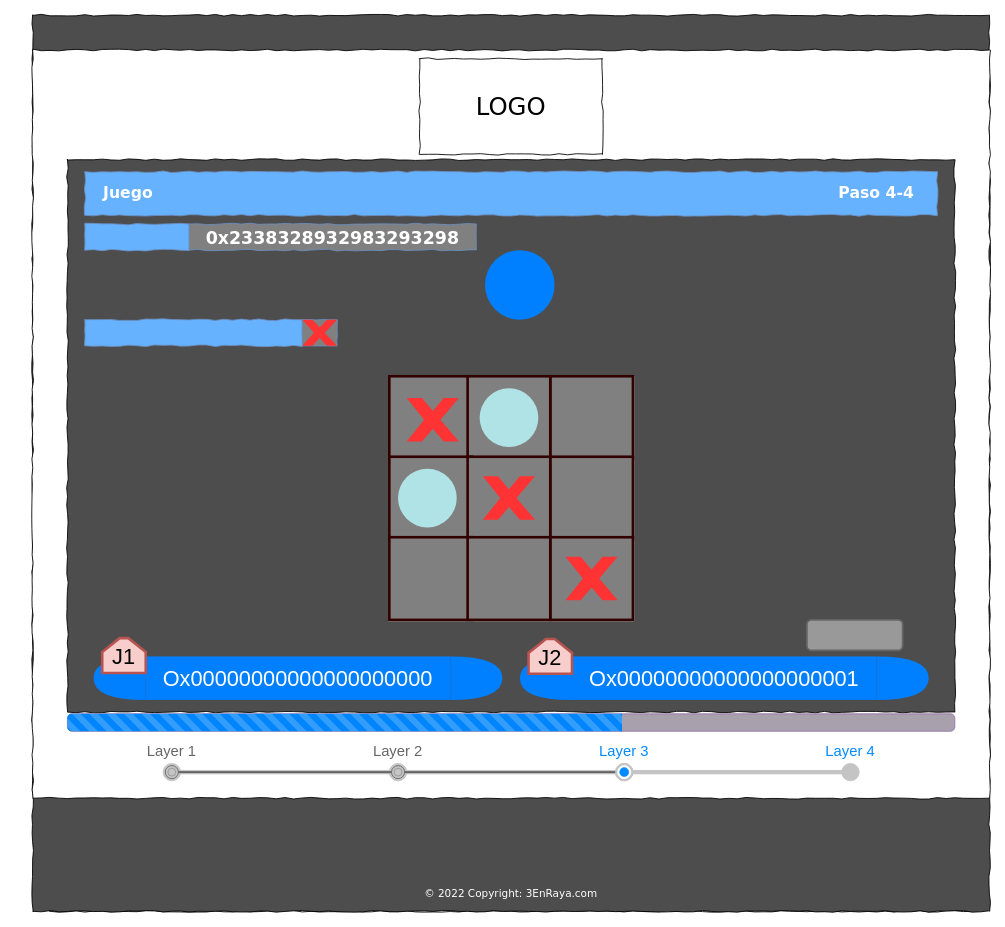
This 1005x927 diagram has some shape labels left out. Here are the shapes that lost their labels. From the top down, the box of each, then its label:
(84, 223, 189, 250): Game ID:
(485, 250, 554, 319): T: 120
(84, 319, 302, 346): Siguiente Movimiento
(806, 619, 903, 651): Pasar Turno
